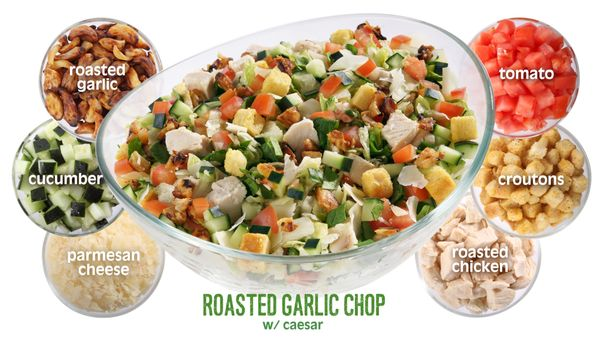sushi: (85, 11, 506, 293), (414, 183, 540, 318), (36, 18, 164, 139), (466, 121, 594, 241), (42, 207, 165, 318), (12, 118, 125, 237)
